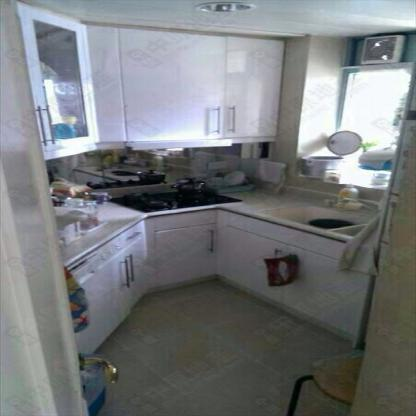Cupboard: (64, 208, 381, 353), (86, 26, 283, 141)
Exhaust Fan: (358, 33, 405, 64)
Exhaust Hood: (108, 186, 243, 212), (128, 140, 230, 149)
Sink: (256, 204, 375, 237)
